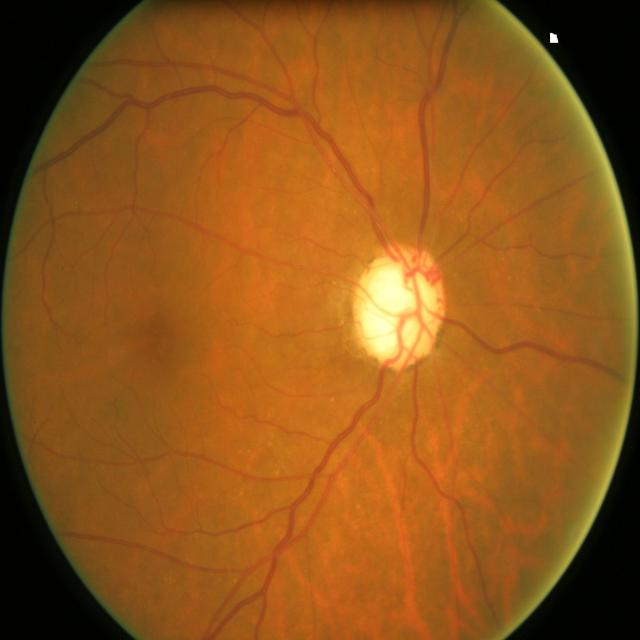OC: (361, 262, 433, 354)
OD: (354, 247, 444, 363)
